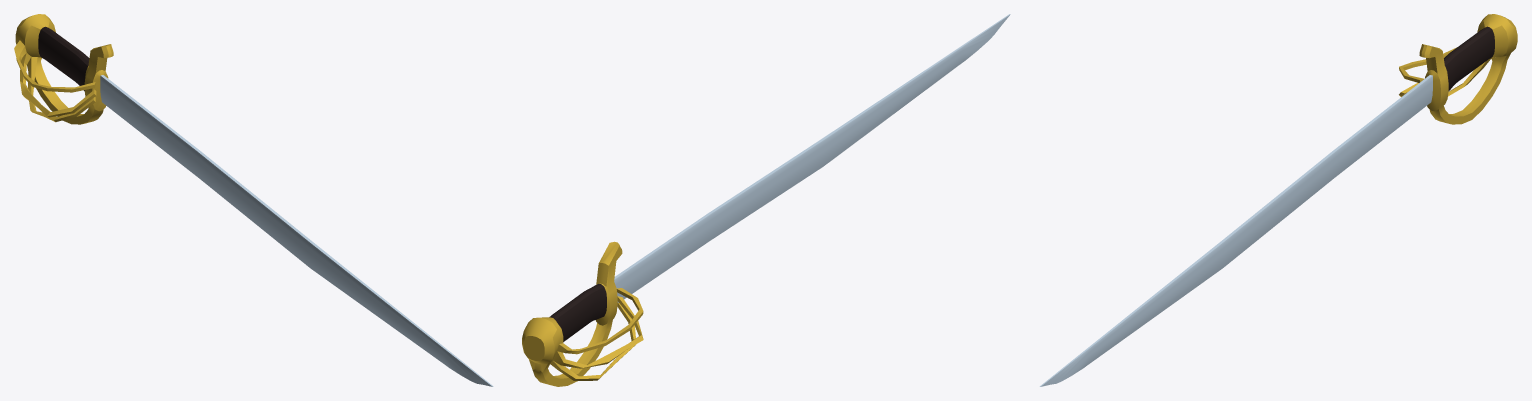
The model's file is weaponHeavySword.obj.
3 renders of one model, left to right at view 1: azimuth 30°, elevation 25°; view 2: azimuth 150°, elevation 25°; view 3: azimuth 330°, elevation 25°, orthographic. The views are drawn at different scales.
Visible parts, largest first — view 1: SabreHeavy.002; view 2: SabreHeavy.002; view 3: SabreHeavy.002.
Boxes of the visible parts, <box> form: SabreHeavy.002: <box>14,14,493,386</box>; SabreHeavy.002: <box>522,14,1010,386</box>; SabreHeavy.002: <box>1039,14,1517,386</box>.
Bounding box in the file's own units: 0.18 × 0.2965 × 2.41.
